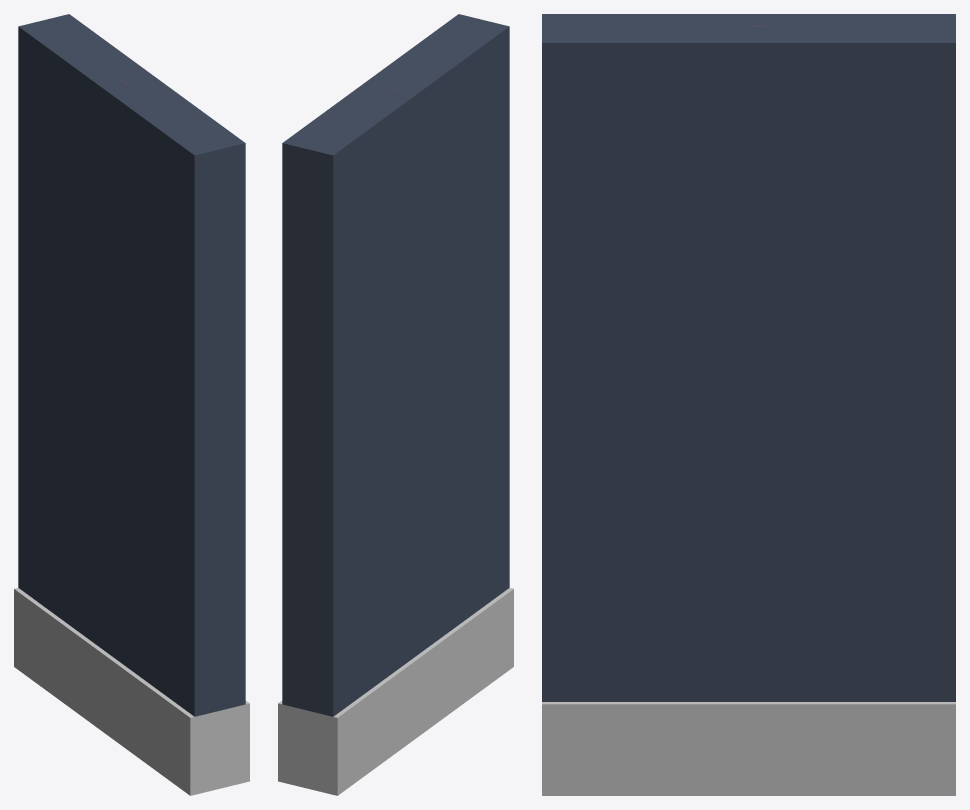
Rendered from ModularGarageWall.fbx.
The picture shows the model from 3 angles, left to right: view 1: azimuth 30°, elevation 25°; view 2: azimuth 150°, elevation 25°; view 3: azimuth 270°, elevation 25°; orthographic projection. The views are drawn at different scales.
Visible parts, largest first — view 1: pCube1; view 2: pCube1; view 3: pCube1.
Boxes of the visible parts, bbox=[...] form: pCube1: bbox=[14, 14, 249, 795]; pCube1: bbox=[278, 14, 513, 795]; pCube1: bbox=[542, 14, 955, 795].
Bounding box in the file's own units: 1.17 × 12 × 6.
